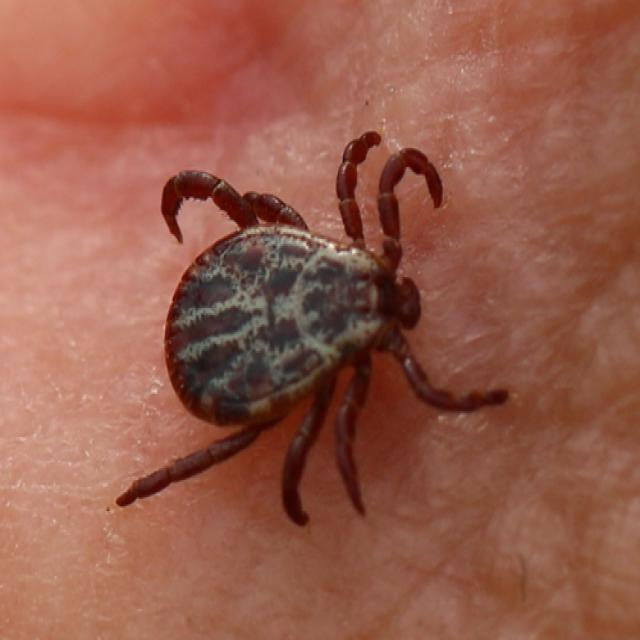Dermacentor Reticulatus-M: (115, 132, 509, 528)
